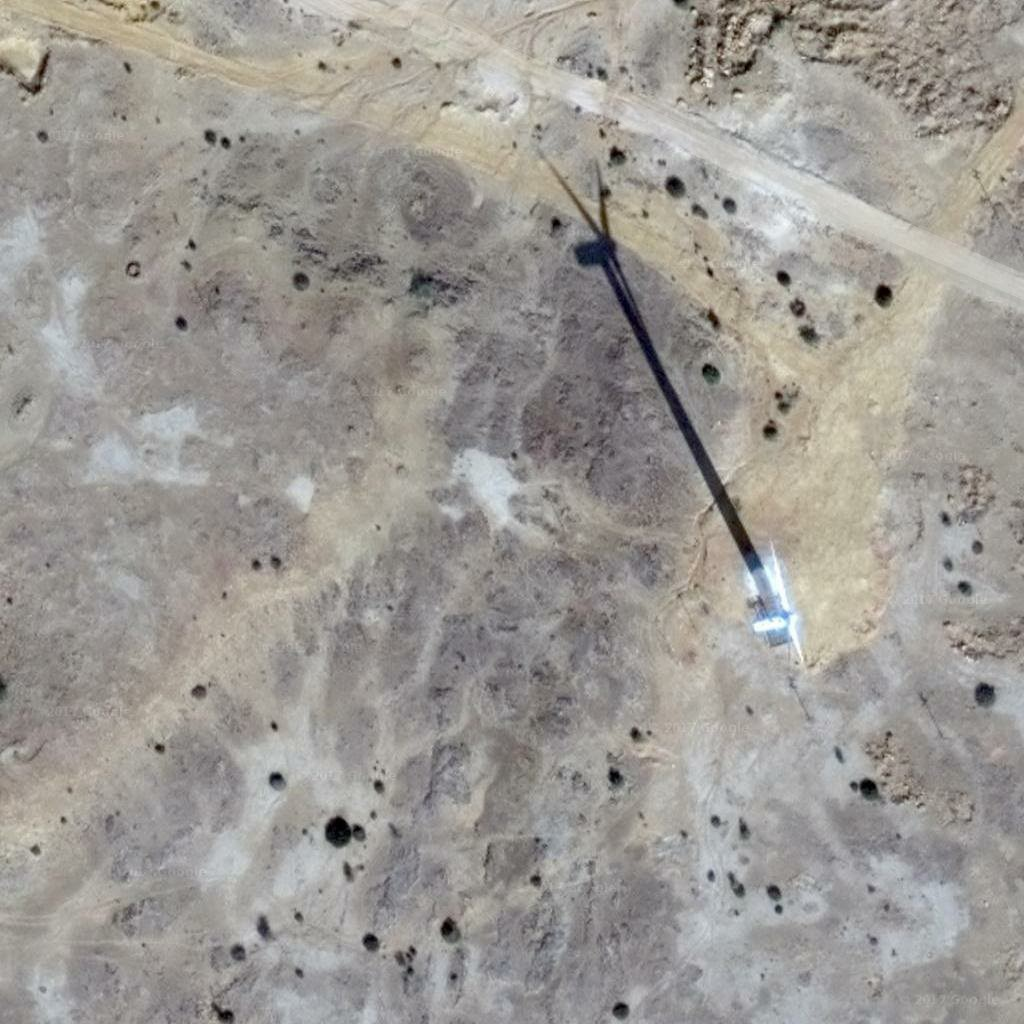Windmill: (535, 144, 767, 562)
